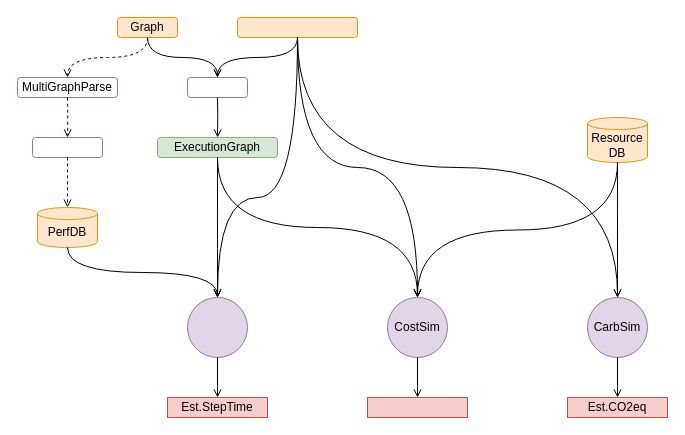
This 685x435 diagram has some shape labels left out. Here are the shapes that lost their labels. From the top down, the centre of each, then its label:
the point at 297,27: TopologyDescription
the point at 217,87: PlanGen
the point at 67,147: OPProfiler
the point at 217,327: PerfSim
the point at 417,407: Est.Cost
